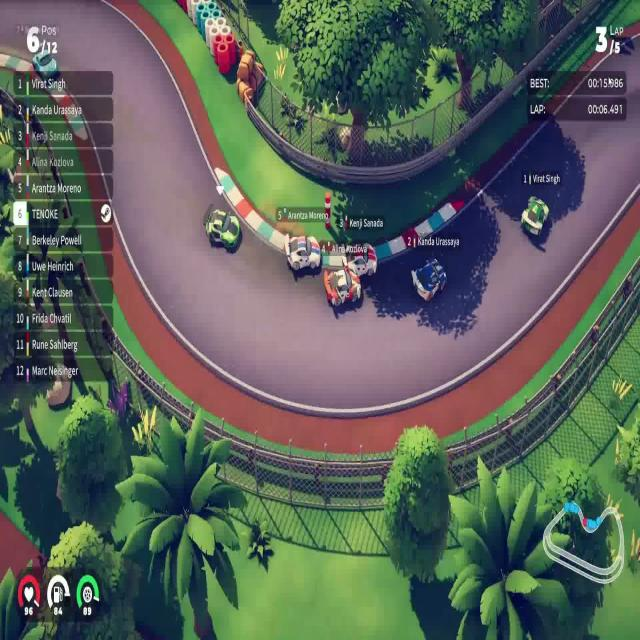car: (323, 264, 362, 310), (410, 255, 447, 303), (204, 207, 241, 252), (284, 233, 321, 274), (520, 194, 550, 239), (342, 241, 378, 278)
